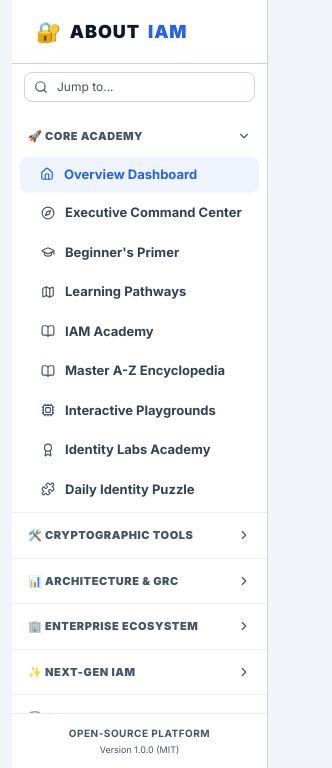
Test: Sidebar › renders a flat list with no sub-group header for a small group
Click the button "🛠️ Cryptographic Tools".
click(140, 535)  # box [12,517,267,554]
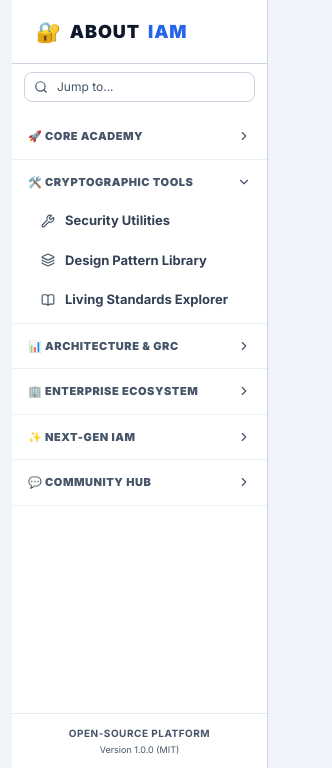
Now the text "Security Utilities" is shown, box [65,211,170,230]
